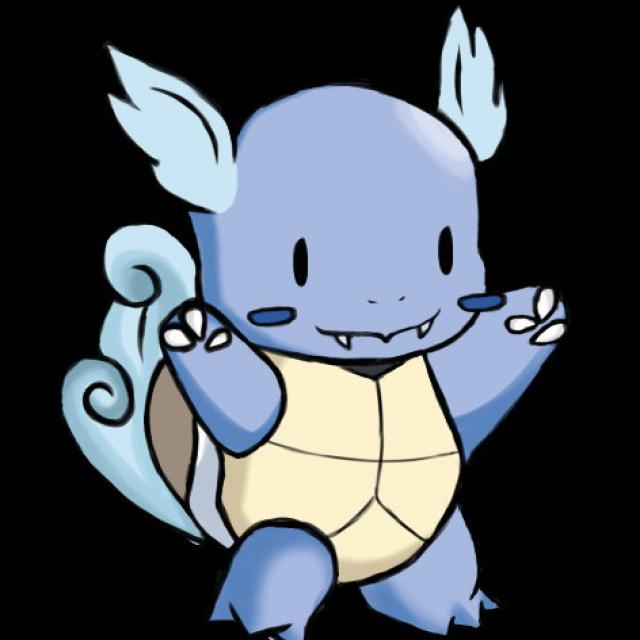Wartortle: (91, 45, 578, 640)
